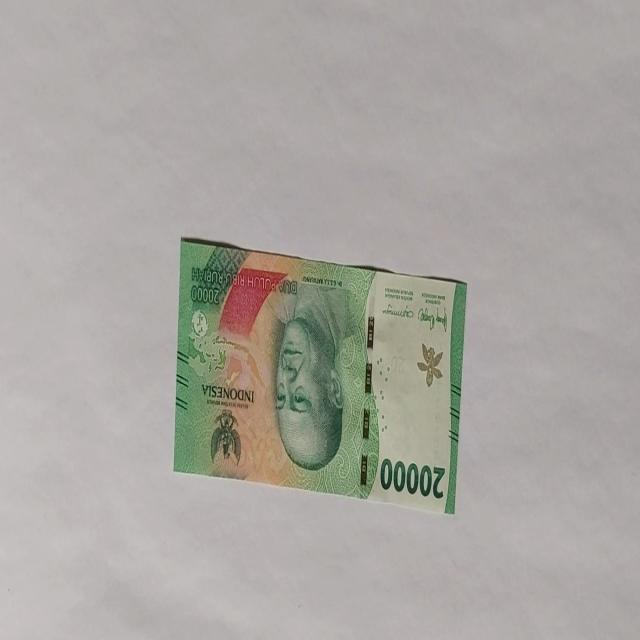dua puluh ribu rupiah: (172, 235, 468, 514), (268, 283, 348, 473)
